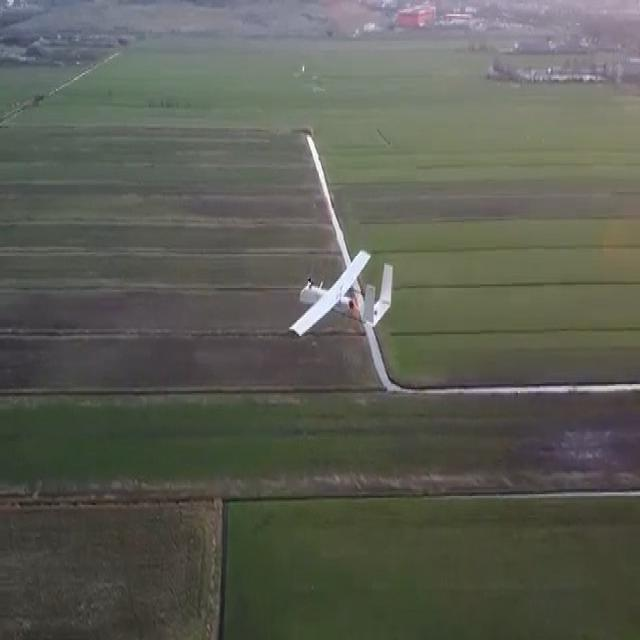drones: (284, 245, 396, 342)
